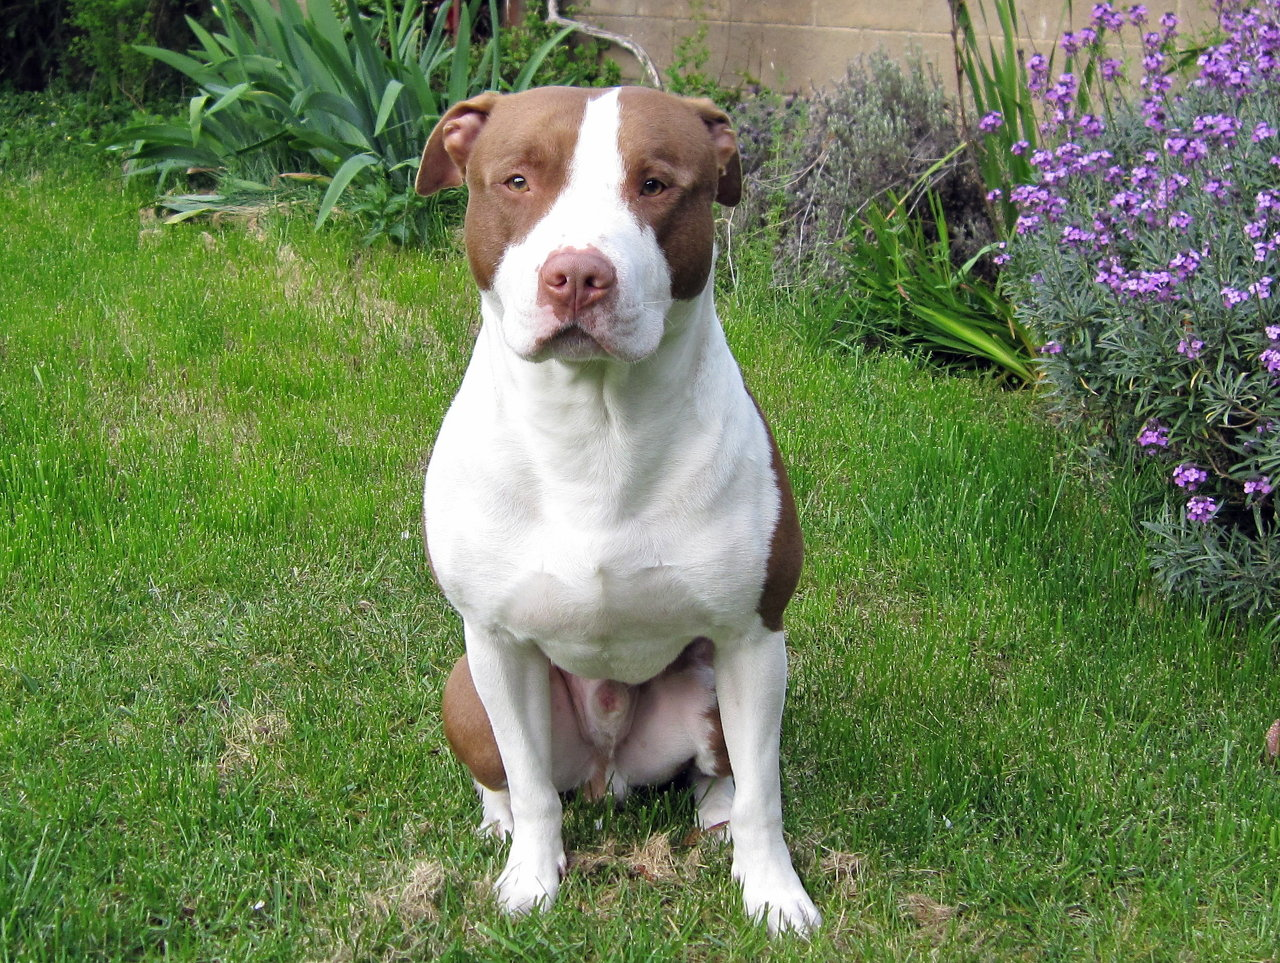am_pit_bull_terrier: (412, 83, 825, 945)
